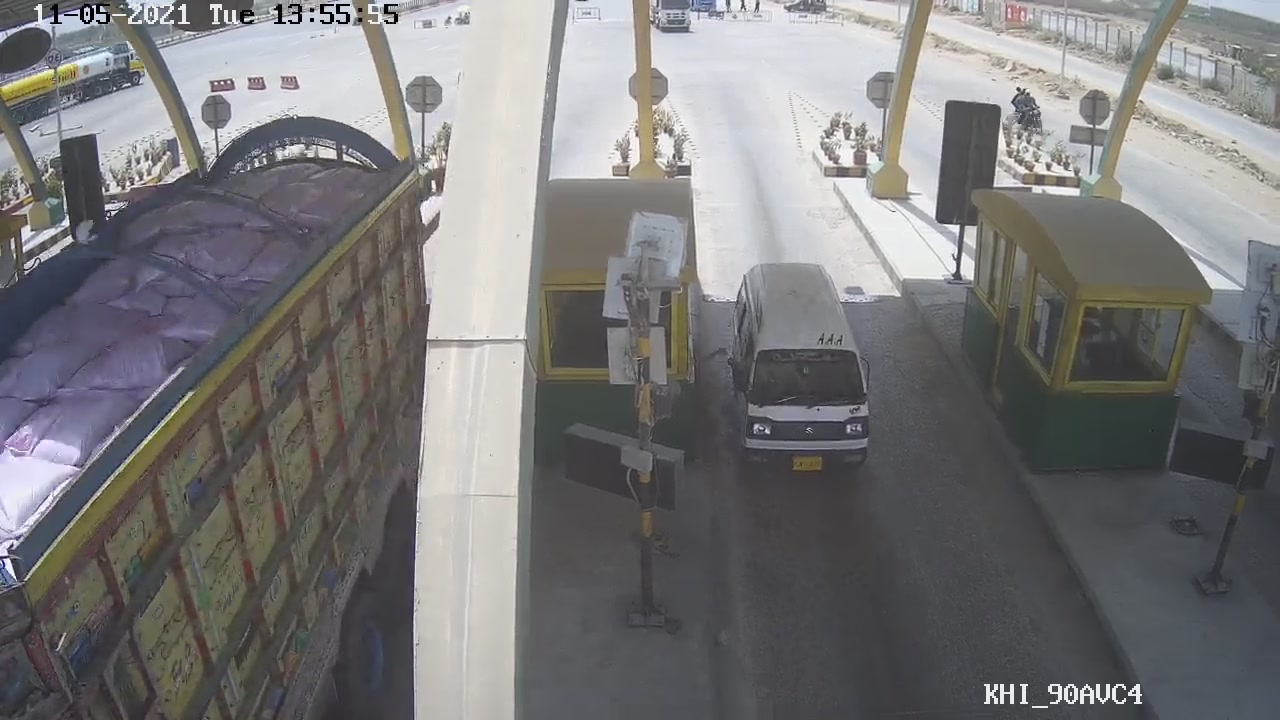F1: (723, 249, 880, 488)
